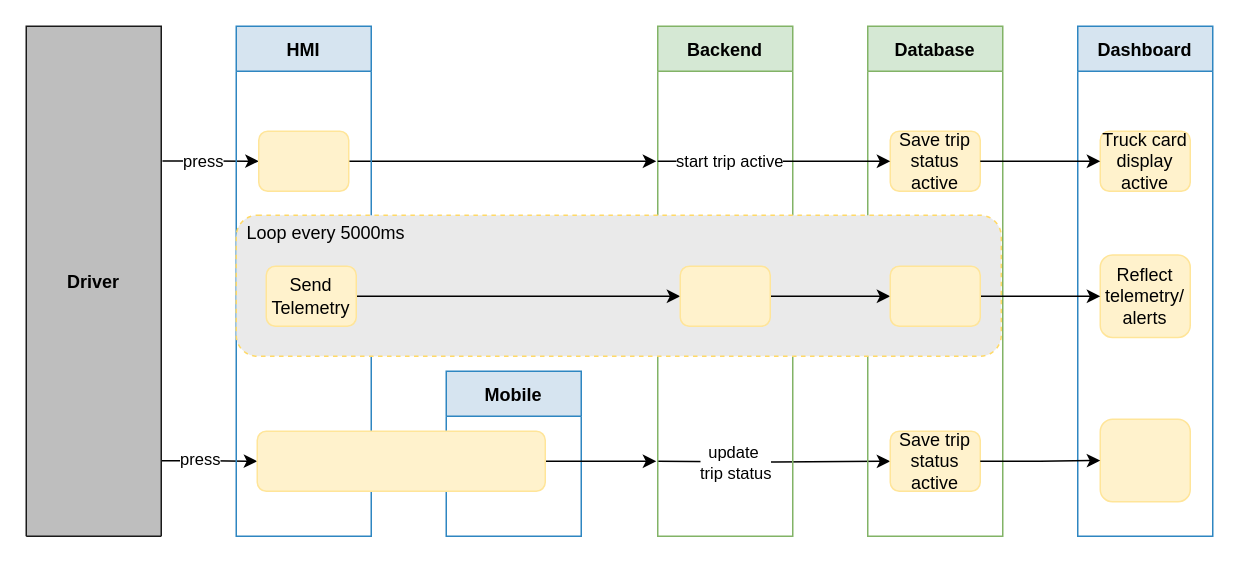
The diagram is 1239 pixels wide and 563 high, and some of its shapes have lost their labels. Each missing label, with the centre of its shape:
"process + detect" belongs at (724,295).
"Reflect status on all views" belongs at (1144,460).
"Rest / Resume / End" belongs at (400,460).
"Start Trip" belongs at (303,160).
"write telemetry + alerts" belongs at (934,295).
